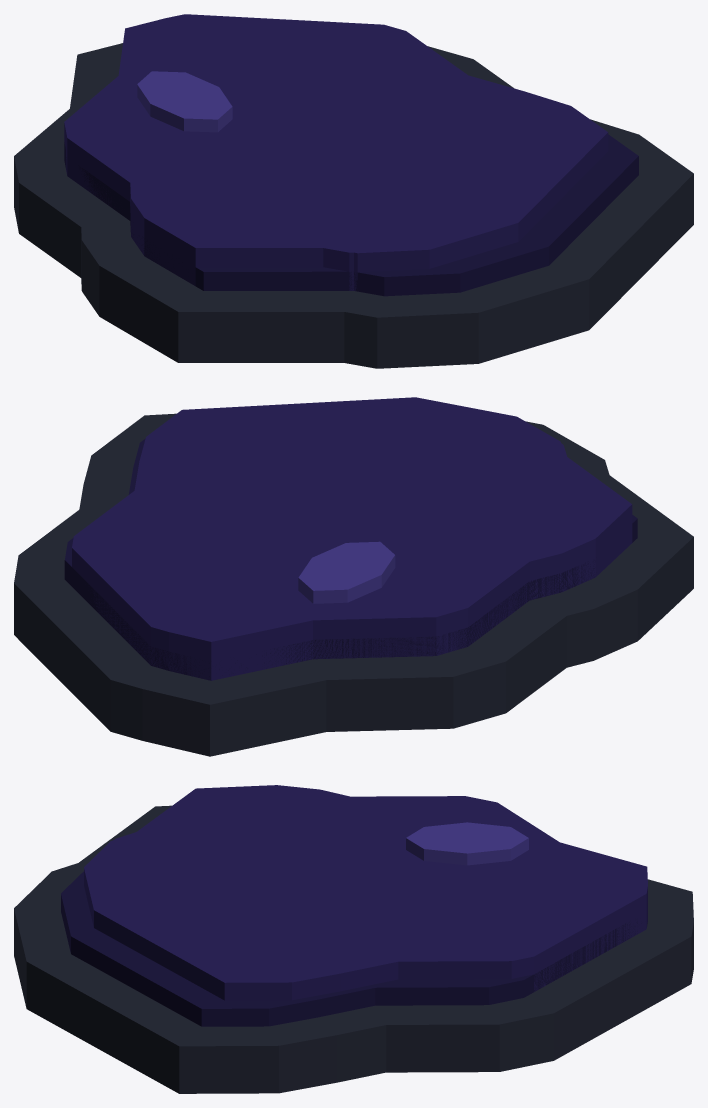
The model's file is kraken_skin.fbx.
3 renders of one model, top to bottom at view 1: azimuth 30°, elevation 25°; view 2: azimuth 150°, elevation 25°; view 3: azimuth 270°, elevation 25°, orthographic. The views are drawn at different scales.
Visible parts, largest first — view 1: kraken_skin; view 2: kraken_skin; view 3: kraken_skin.
Part boxes in pixels (x1,y1,x2,y2): kraken_skin: [14, 14, 693, 368]; kraken_skin: [14, 397, 693, 756]; kraken_skin: [14, 785, 693, 1093].
Bounding box in the file's own units: 0.8846 × 0.16 × 1.04.
Materials: 1 (1 with a texture image).
